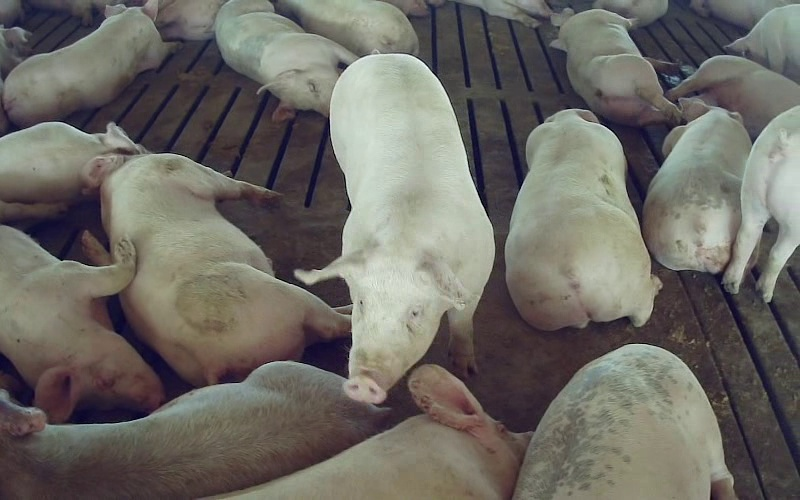pig: (296, 54, 494, 402), (85, 154, 349, 385), (0, 362, 388, 499), (221, 365, 530, 499), (514, 344, 735, 499), (505, 110, 661, 329), (643, 98, 750, 273), (215, 0, 357, 121), (550, 8, 681, 126), (723, 106, 799, 301), (0, 122, 145, 203), (666, 55, 799, 139), (275, 0, 418, 56)
